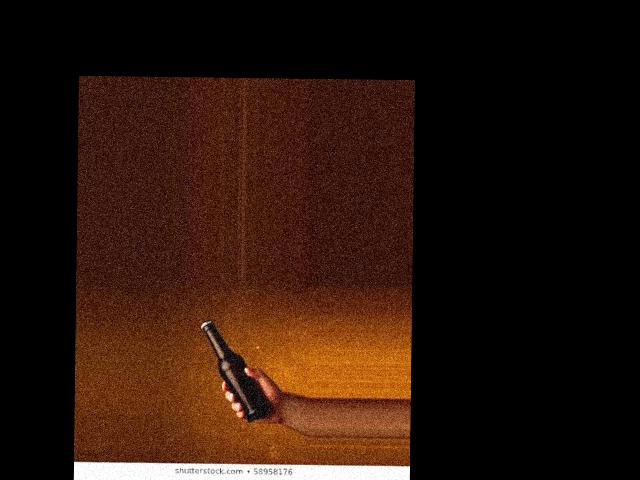beer: (198, 319, 274, 423)
